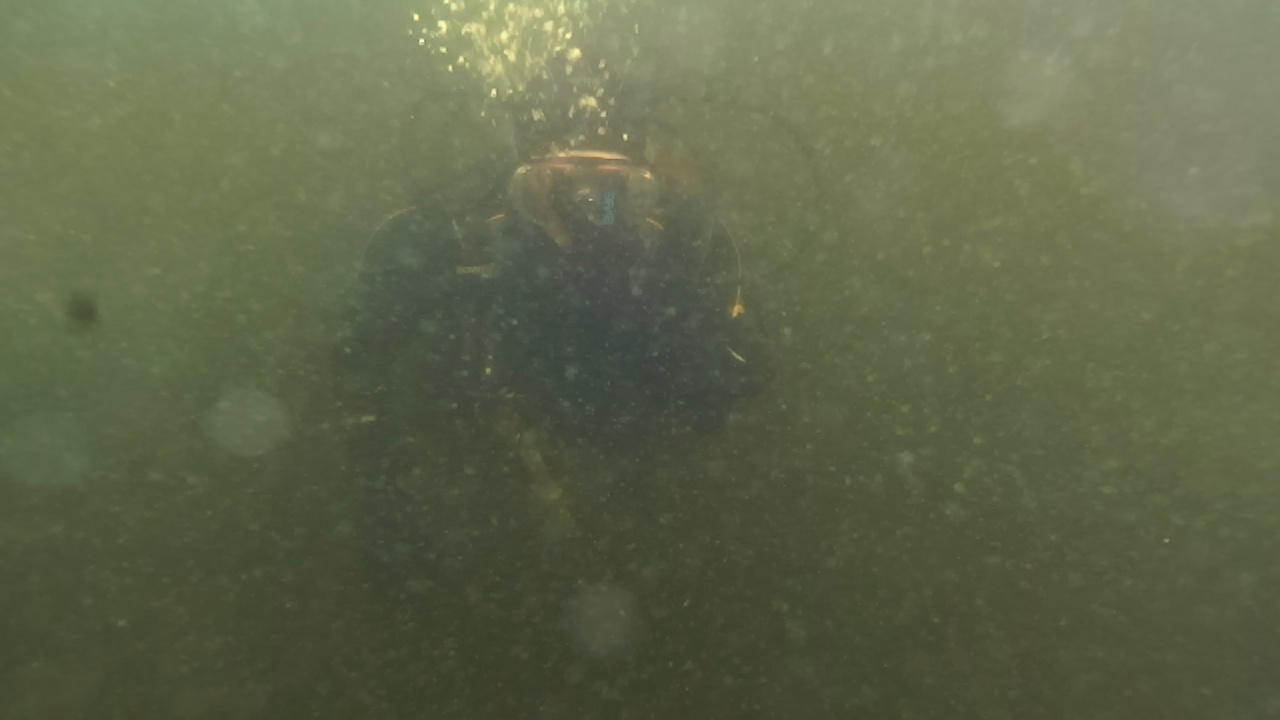Diver: (320, 62, 752, 656)
Hand: (348, 508, 472, 618)
Head: (508, 58, 668, 302)
